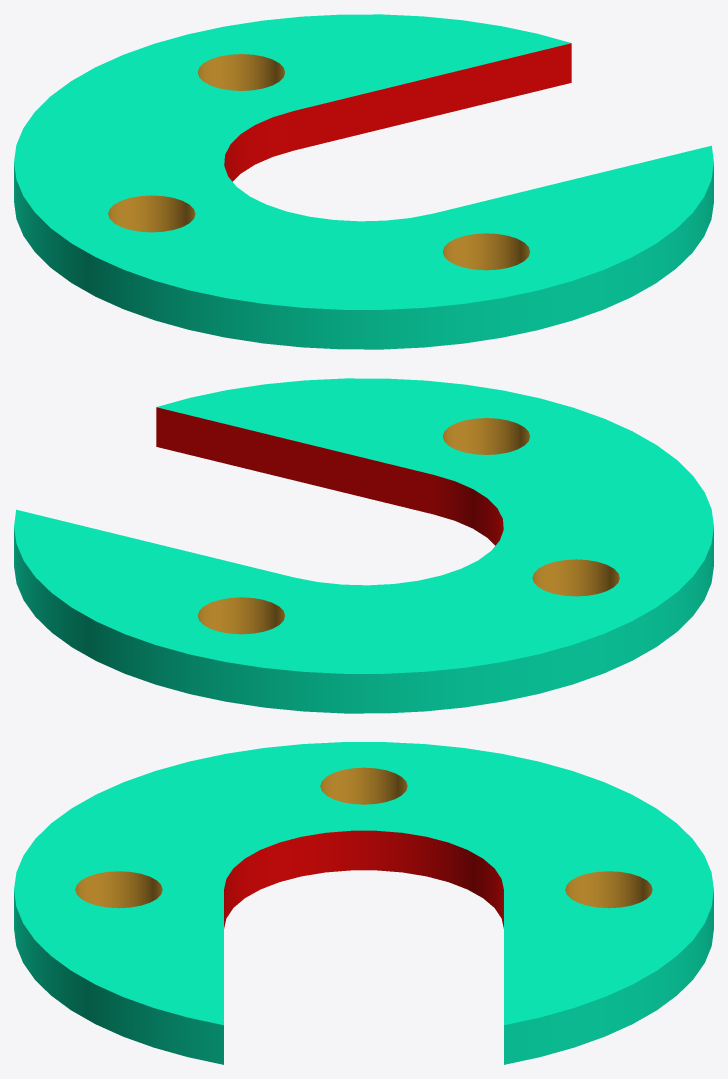
Rendered from SOLIDWORKS_200_EXERCISES_ex1.glb.
The picture shows the model from 3 angles, top to bottom: view 1: azimuth 30°, elevation 25°; view 2: azimuth 150°, elevation 25°; view 3: azimuth 270°, elevation 25°; orthographic projection.
Parts seen in each view (by area): view 1: 3DGeom-10, 3DGeom-11, 3DGeom-12; view 2: 3DGeom-10, 3DGeom-11, 3DGeom-12; view 3: 3DGeom-10, 3DGeom-11, 3DGeom-12.
Part boxes in pixels (x1=…): 3DGeom-10: x1=14, y1=14, x2=713, y2=349; 3DGeom-11: x1=224, y1=43, x2=571, y2=181; 3DGeom-12: x1=108, y1=54, x2=529, y2=270; 3DGeom-10: x1=14, y1=378, x2=713, y2=713; 3DGeom-11: x1=156, y1=407, x2=503, y2=545; 3DGeom-12: x1=198, y1=418, x2=619, y2=634; 3DGeom-10: x1=14, y1=742, x2=713, y2=1064; 3DGeom-11: x1=224, y1=830, x2=503, y2=928; 3DGeom-12: x1=75, y1=767, x2=652, y2=908.
Bounding box in the file's own units: 0.0766 × 0.005 × 0.08.
